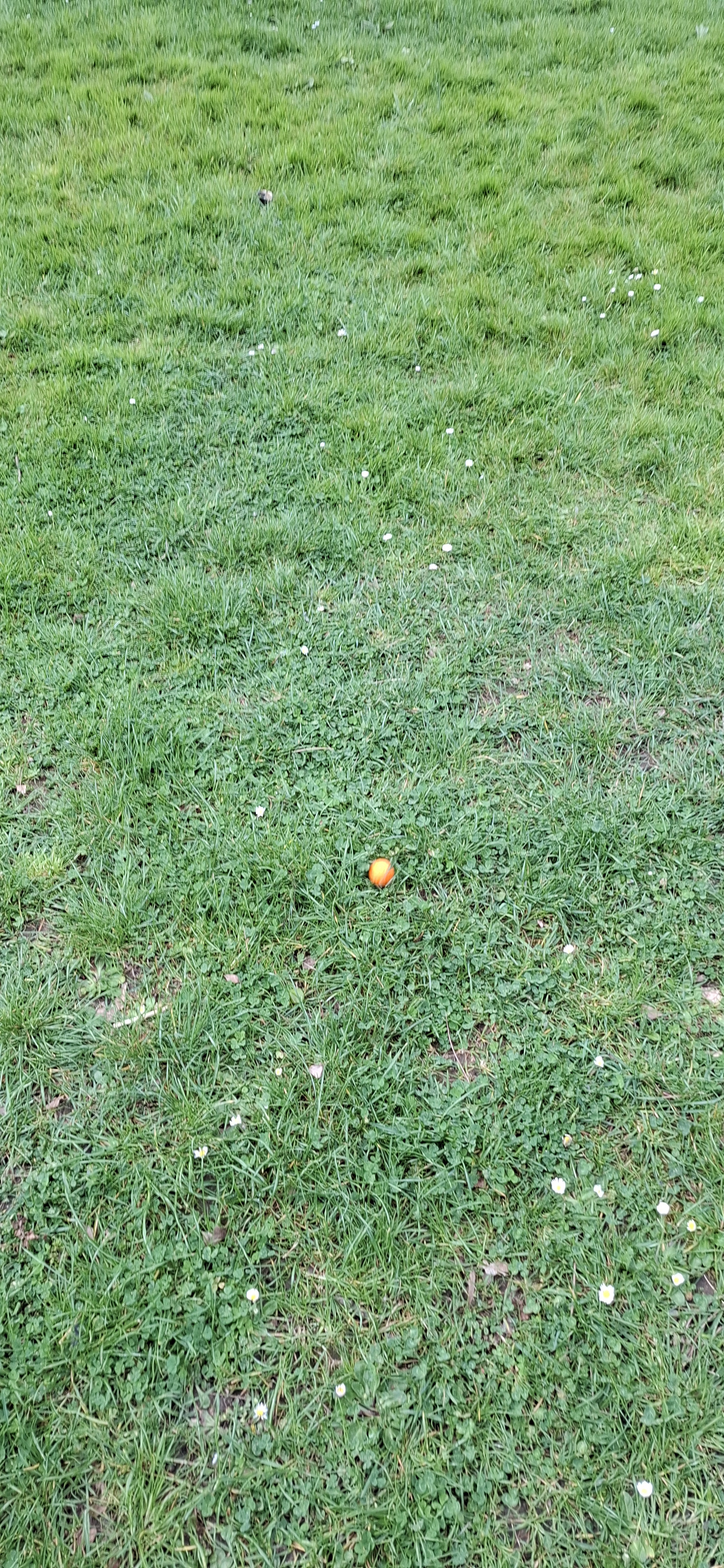ball: (396, 716, 410, 770)
